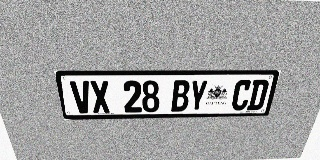2: (123, 80, 142, 112)
8: (142, 80, 160, 112)
B: (171, 80, 190, 112)
C: (230, 80, 253, 110)
D: (246, 80, 270, 110)
V: (70, 81, 93, 113)
X: (89, 81, 111, 113)
Y: (188, 80, 208, 111)
